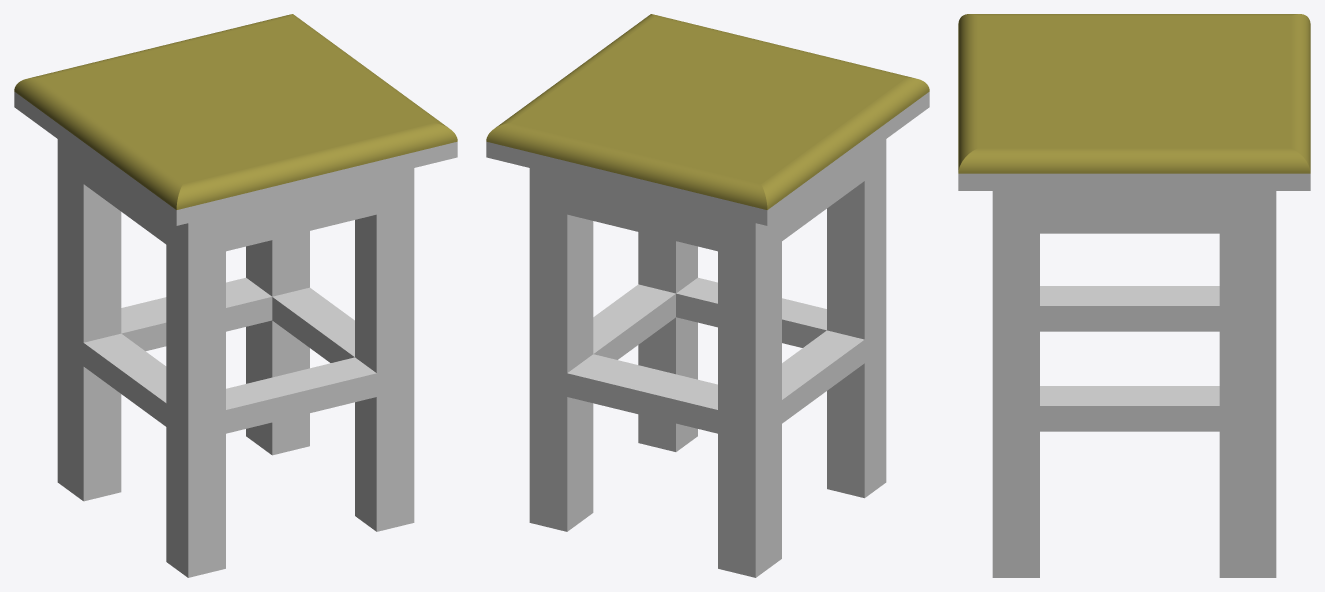
Rendered from Taburete.fbx.
3 renders of one model, left to right at view 1: azimuth 30°, elevation 25°; view 2: azimuth 150°, elevation 25°; view 3: azimuth 270°, elevation 25°, orthographic. The views are drawn at different scales.
Visible parts, largest first — view 1: Model; view 2: Model; view 3: Model.
Boxes of the visible parts, x1,y1,x2,y2 form: Model: (14, 14, 457, 577); Model: (486, 14, 929, 577); Model: (958, 14, 1310, 577).
Size of the model in its own units: 0.3728 by 0.509 by 0.3728.
